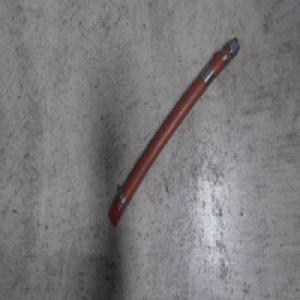Hose: (106, 32, 241, 228)
